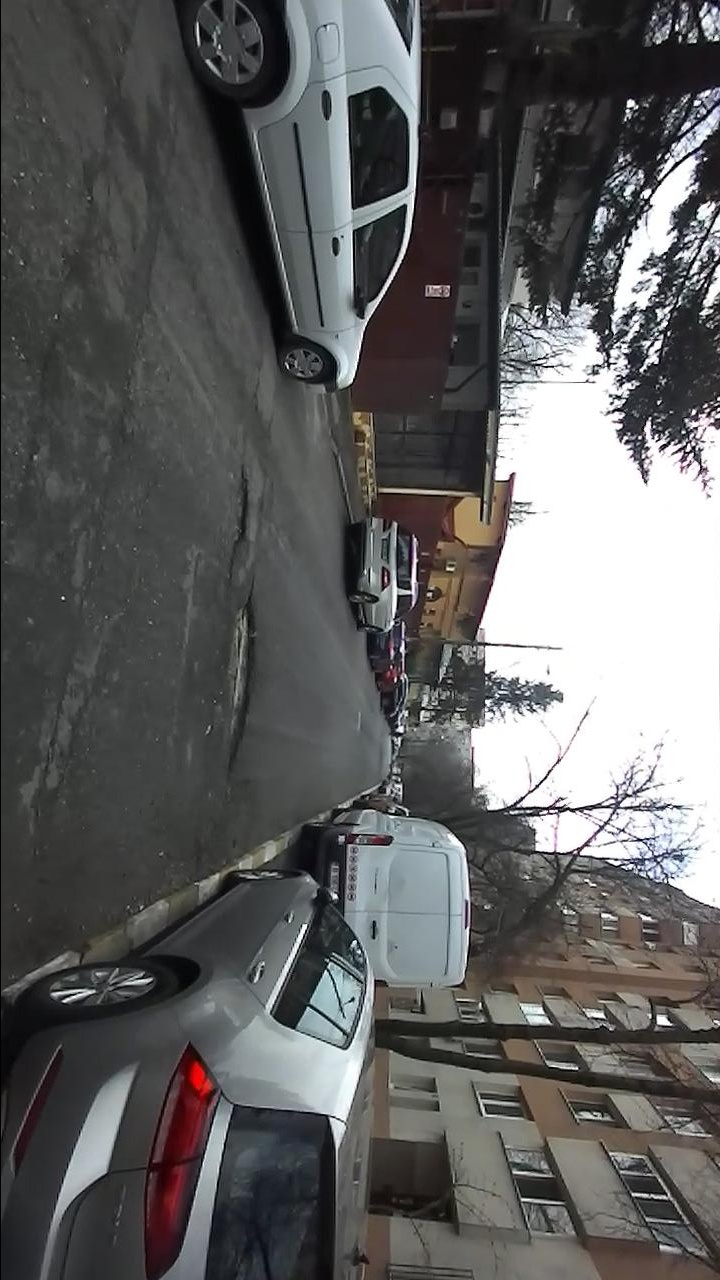pothole: (220, 586, 261, 778), (226, 461, 254, 572)
